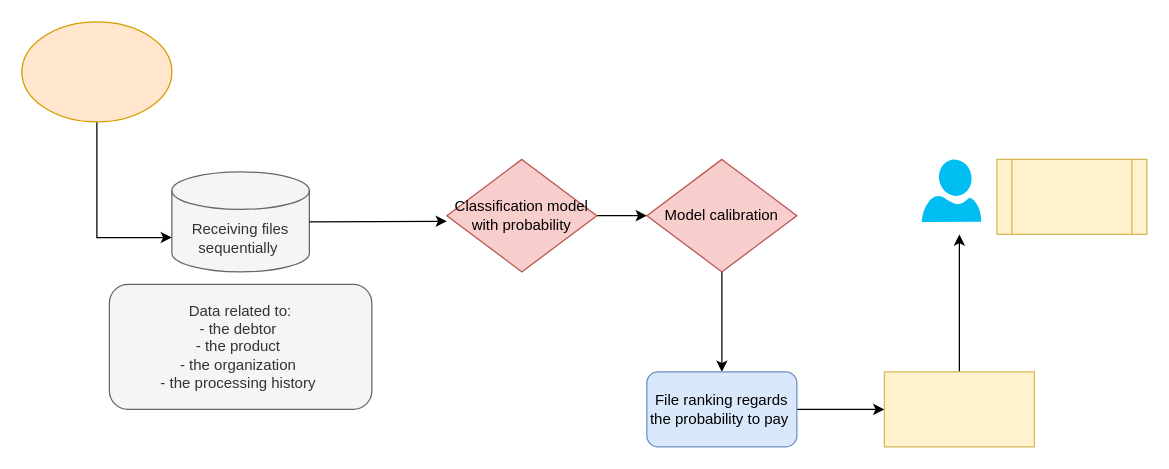
Image size: 1169x469. Some labels were removed from this diagram. The shapes that lost their labels are listed below. From the top down, each one's centre as x and y in pixels, then its label:
At pixel 96 71: "BNP PF".
At pixel 1071 196: "file processing regards to the priority".
At pixel 958 409: "Adding business rules for prioritization".
